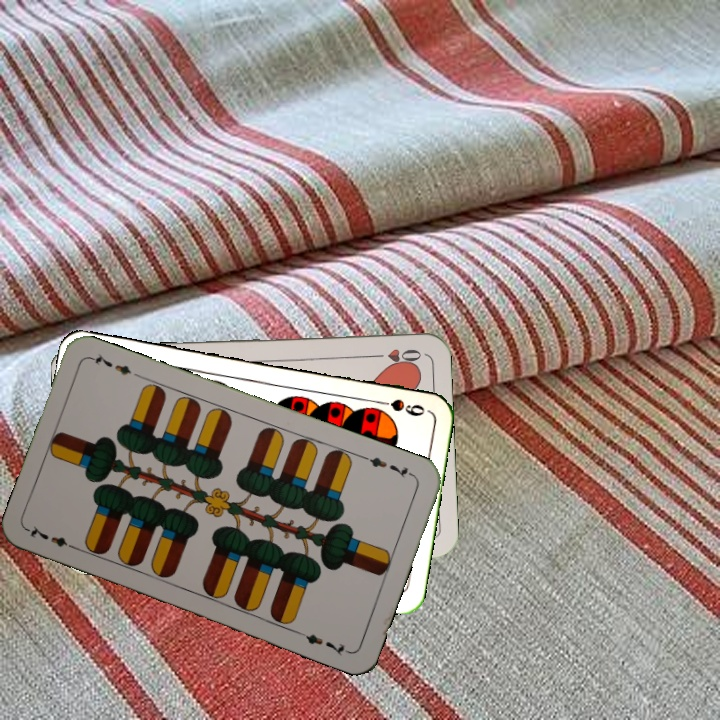E7: (24, 522, 81, 553), (360, 452, 417, 481)
HO: (365, 344, 425, 367)
S9: (370, 395, 427, 419)
